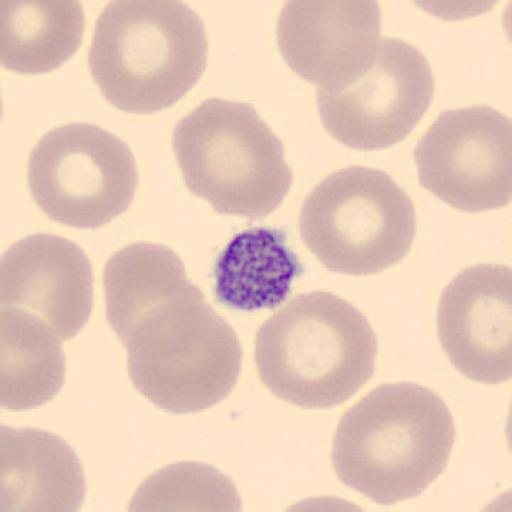Platelet: (208, 223, 304, 314)
RBC: (329, 378, 457, 508), (252, 287, 380, 413), (170, 94, 294, 223), (123, 296, 245, 416), (86, 0, 210, 117), (314, 36, 436, 152), (296, 163, 418, 278), (24, 120, 141, 231), (101, 238, 205, 352), (412, 102, 511, 215), (2, 230, 96, 343), (273, 0, 383, 90), (435, 260, 512, 384), (1, 424, 89, 512), (2, 306, 68, 412), (124, 457, 246, 512), (0, 1, 88, 77), (400, 0, 510, 23), (268, 492, 386, 512), (471, 484, 512, 512), (500, 0, 512, 52), (498, 0, 512, 44)
